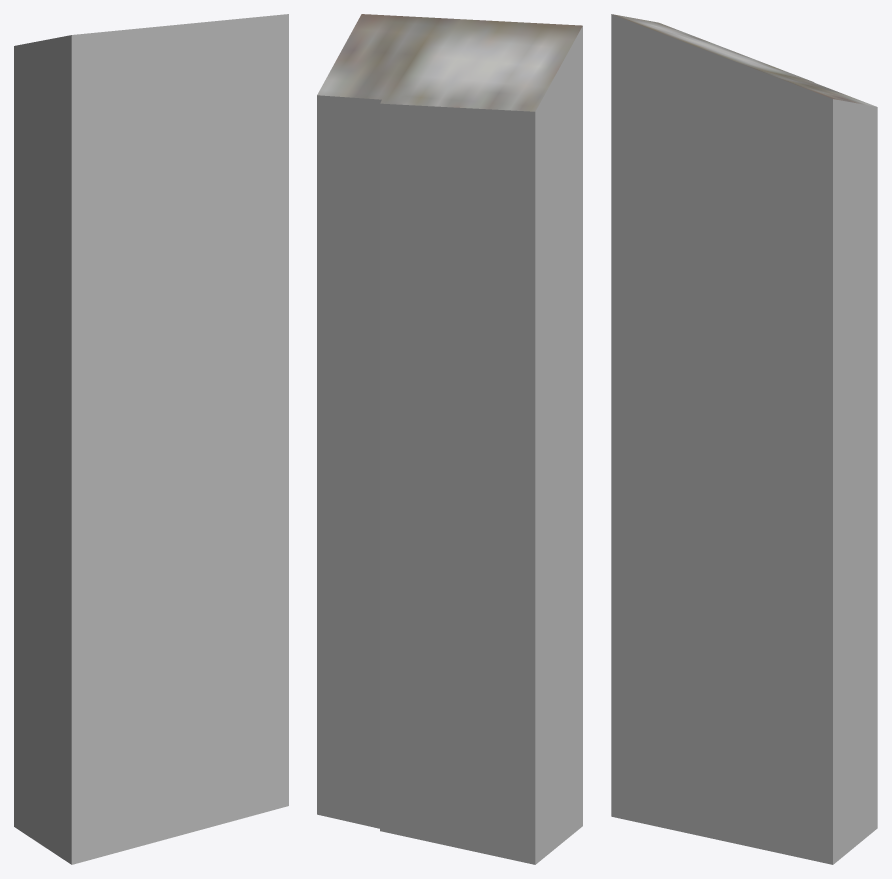
The model's file is DEBW_0010007THWT.gltf.
The picture shows the model from 3 angles, left to right: view 1: azimuth 30°, elevation 25°; view 2: azimuth 150°, elevation 25°; view 3: azimuth 330°, elevation 25°; orthographic projection. The views are drawn at different scales.
Visible parts, largest first — view 1: Z_UP; view 2: Z_UP; view 3: Z_UP.
Boxes of the visible parts, x1,y1,x2,y2 form: Z_UP: (14,14,288,864); Z_UP: (317,14,582,864); Z_UP: (611,14,877,864).
Bounding box in the file's own units: 4.27 × 14.88 × 1.88.
2 materials, 1 textured.
